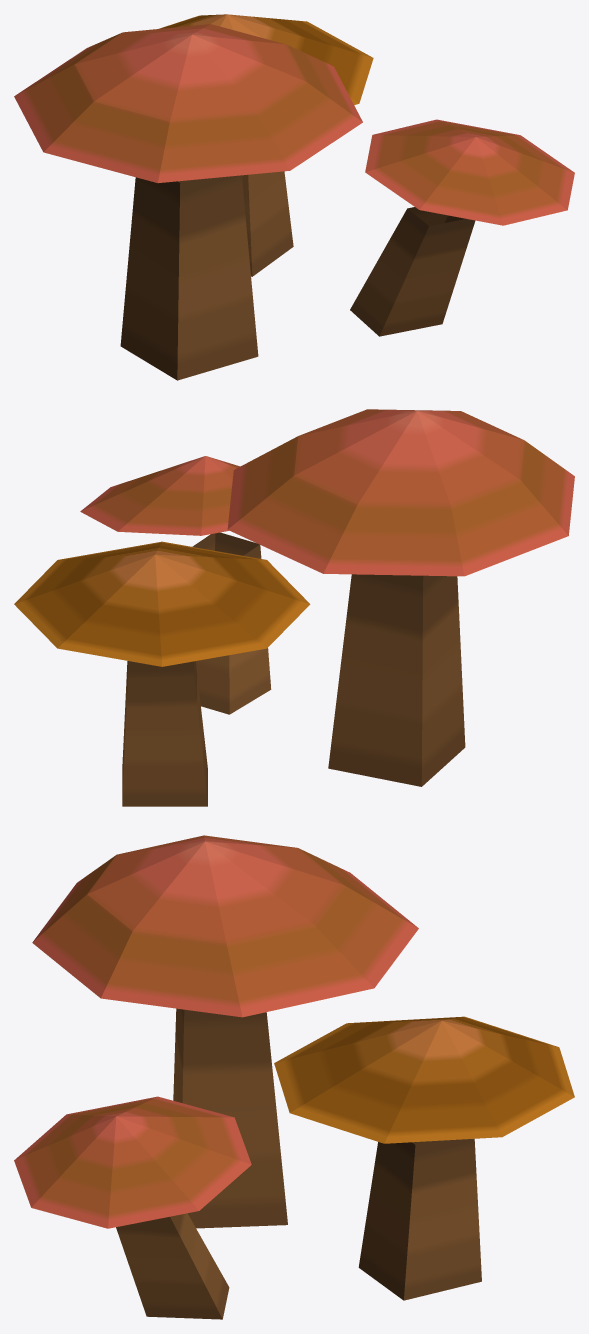
Rendered from um_mushroom005.FBX.
The picture shows the model from 3 angles, top to bottom: view 1: azimuth 30°, elevation 25°; view 2: azimuth 150°, elevation 25°; view 3: azimuth 270°, elevation 25°; orthographic projection. The views are drawn at different scales.
Parts seen in each view (by area): view 1: um_mushroom005; view 2: um_mushroom005; view 3: um_mushroom005.
Boxes of the visible parts, x1=… form: um_mushroom005: x1=14, y1=14, x2=574, y2=380; um_mushroom005: x1=14, y1=409, x2=574, y2=806; um_mushroom005: x1=14, y1=835, x2=574, y2=1319.
Size of the model in its own units: 0.8628 by 0.555 by 0.7879.
